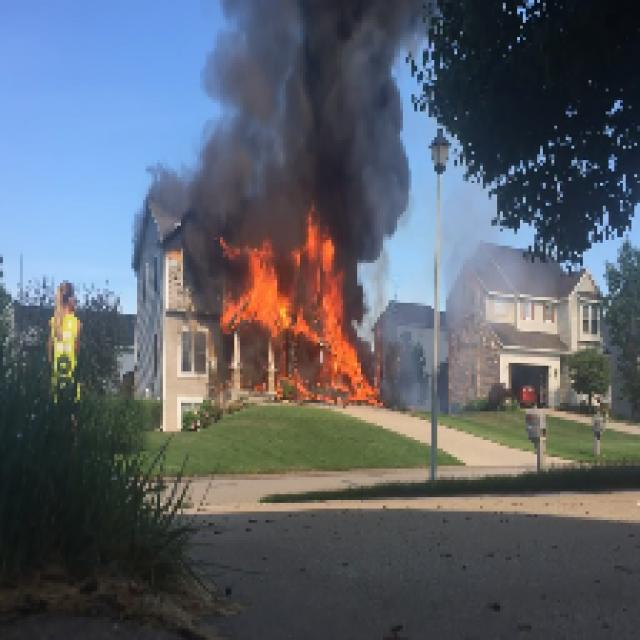fire: (240, 242, 380, 407)
smoke: (171, 0, 414, 208)
